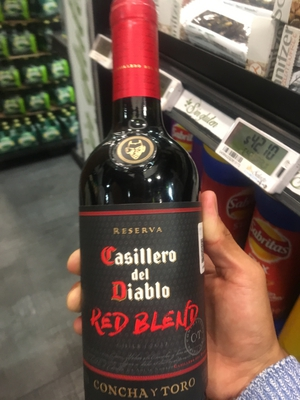casillero del diablo red blend: (73, 20, 212, 396)
